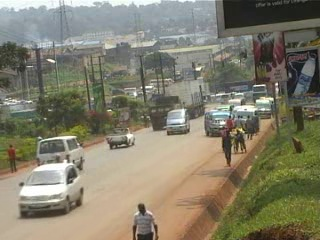Car: (16, 158, 86, 220), (163, 105, 193, 135)
